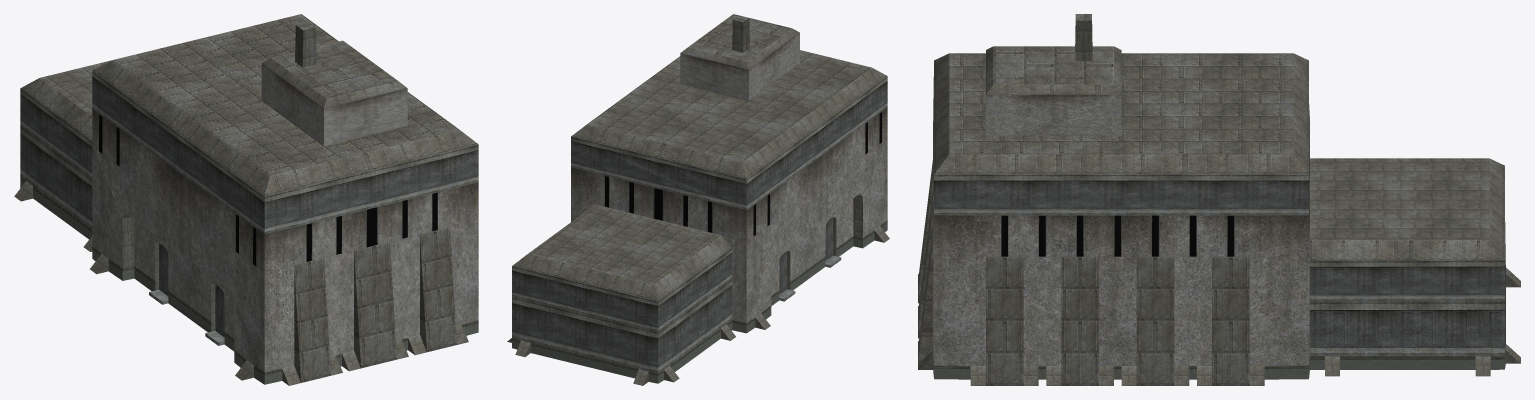
The model's file is thm_corl_imprv_slum_16x32_s01_l1.fbx.
3 renders of one model, left to right at view 1: azimuth 30°, elevation 25°; view 2: azimuth 150°, elevation 25°; view 3: azimuth 270°, elevation 25°, orthographic. The views are drawn at different scales.
Visible parts, largest first — view 1: mesh_node; view 2: mesh_node; view 3: mesh_node.
Boxes of the visible parts, x1,y1,x2,y2 form: mesh_node: (14,14,478,385); mesh_node: (507,14,889,385); mesh_node: (918,14,1520,385).
Bounding box in the file's own units: 16 × 17.95 × 32.
